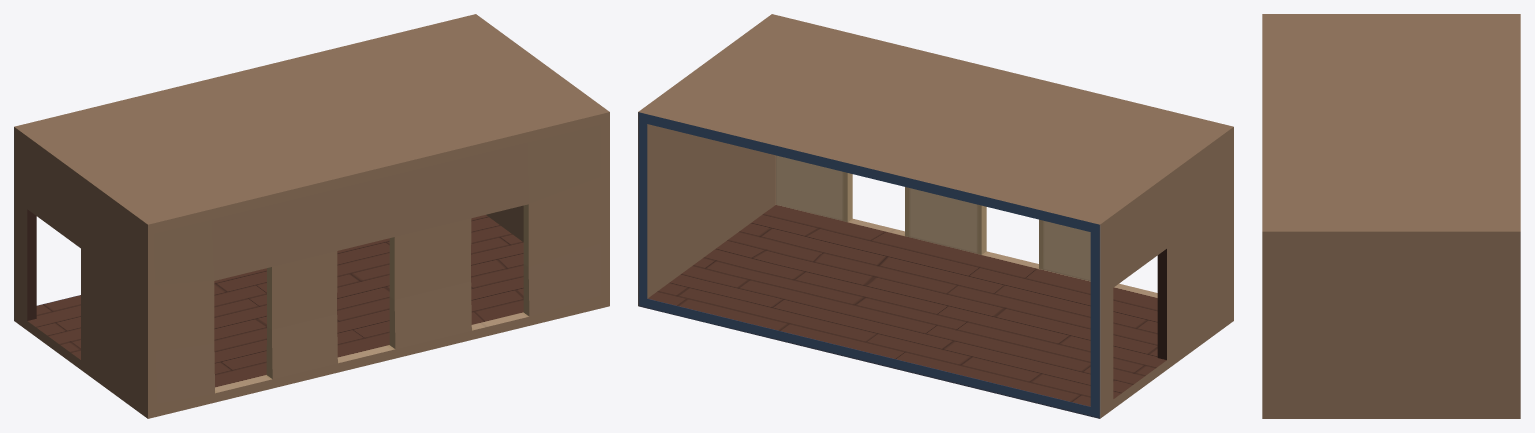
Rendered from Hallway2UP_3Doors_Right.fbx.
3 views of the same model, side by side, from view 1: azimuth 30°, elevation 25°; view 2: azimuth 150°, elevation 25°; view 3: azimuth 270°, elevation 25° (orthographic). The views are drawn at different scales.
Parts seen in each view (by area): view 1: up3doo_Right; view 2: up3doo_Right; view 3: up3doo_Right.
Part boxes in pixels (bbox=[...]): up3doo_Right: bbox=[14, 14, 609, 418]; up3doo_Right: bbox=[638, 14, 1233, 418]; up3doo_Right: bbox=[1262, 14, 1520, 418].
Bounding box in the file's own units: 996 × 400 × 500.
